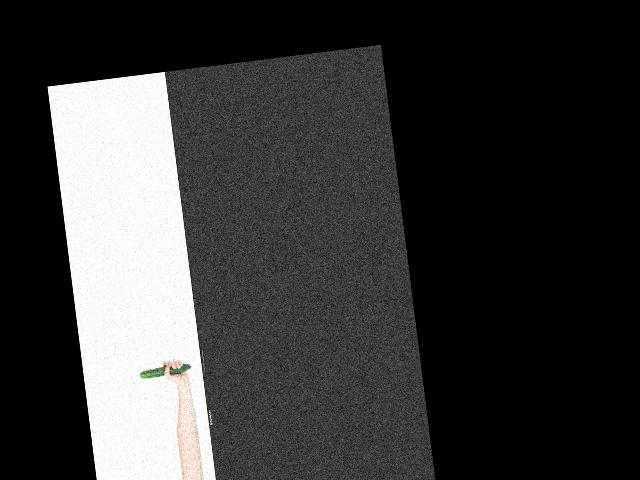cucumber: (139, 362, 192, 379)
